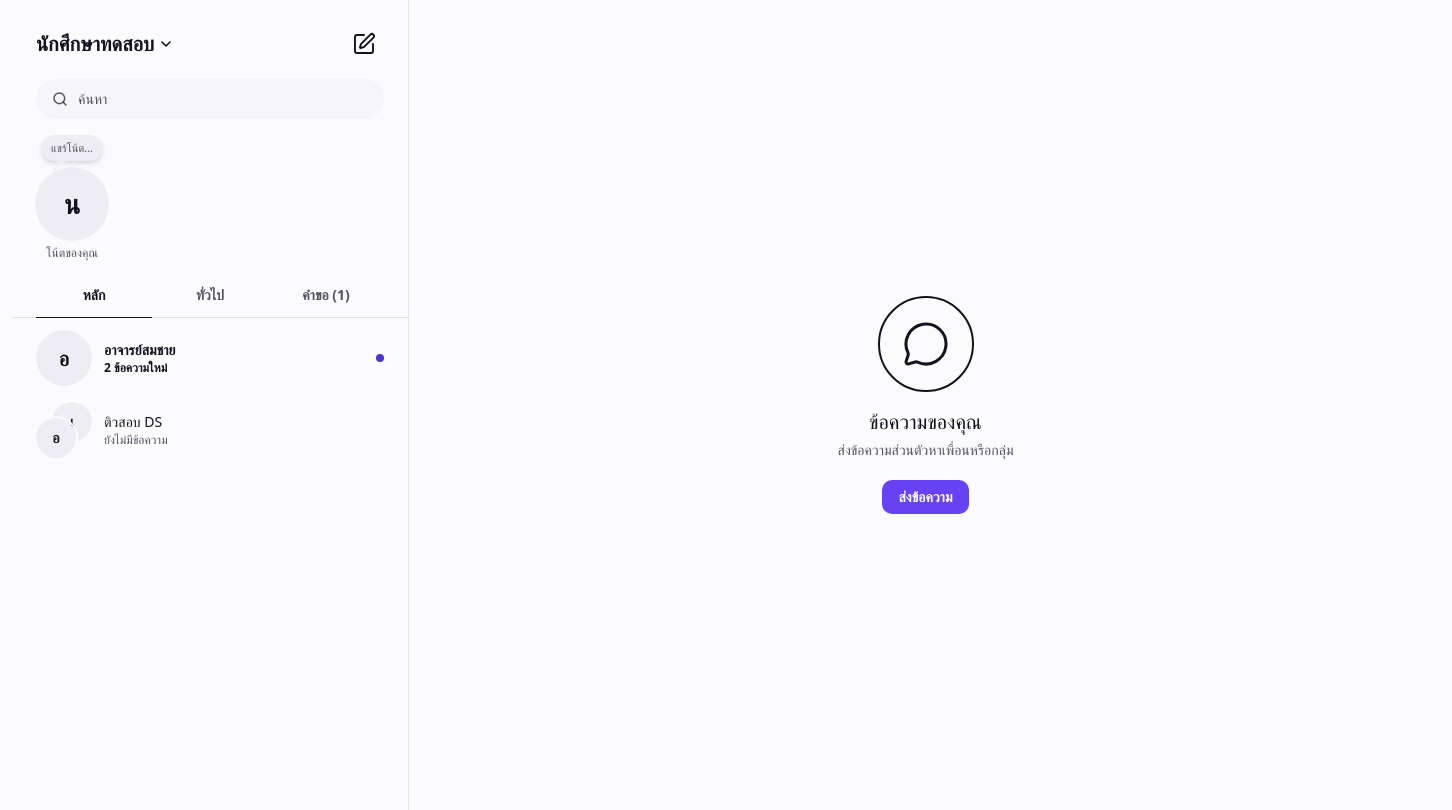
Test: หน้าข้อความ › แท็บ "ทั่วไป" = แฟ้ม GENERAL
Click the tab "ทั่วไป" at (210, 296), box [152,273,268,318]
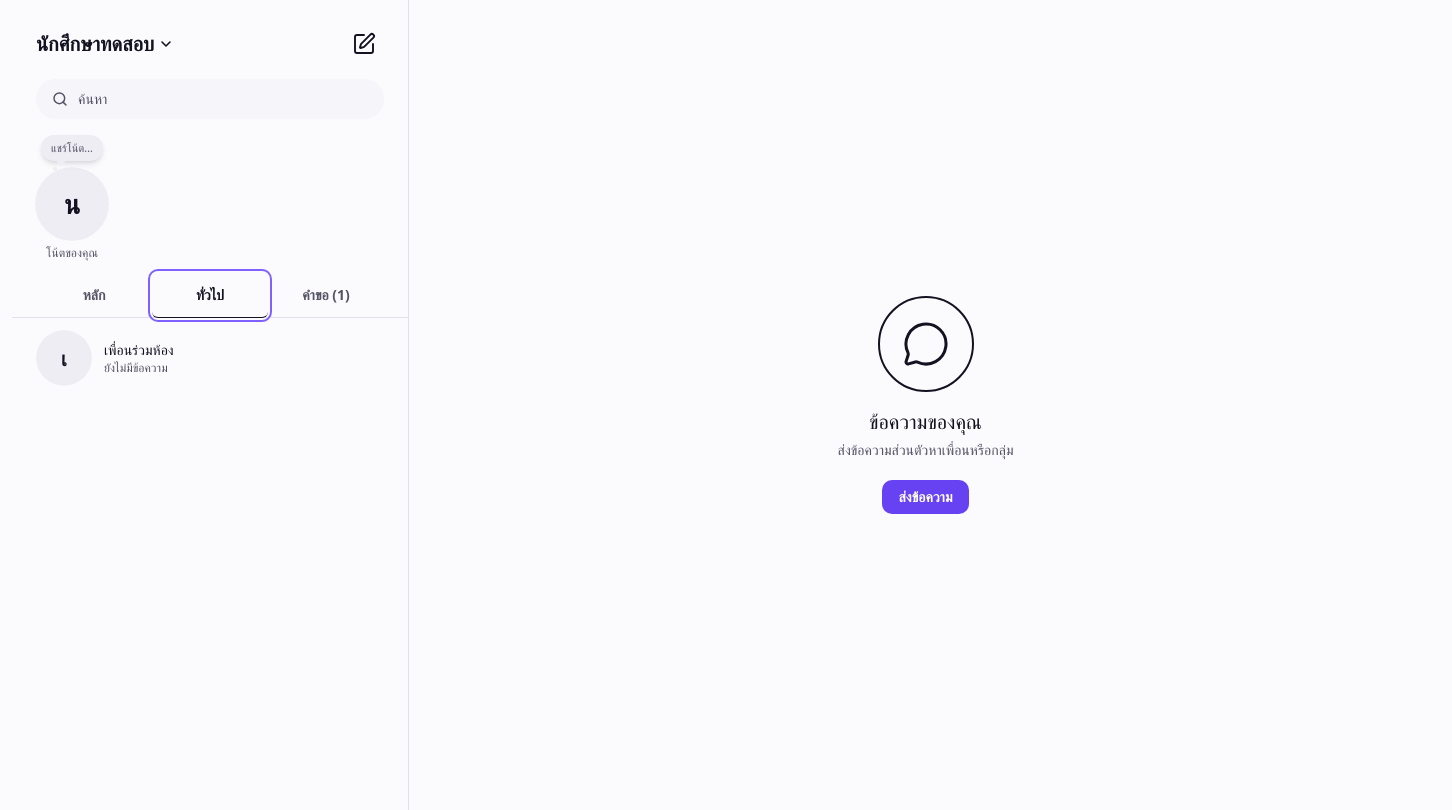
Result: the button "เ เพื่อนร่วมห้อง ยังไม่มีข้อความ" is shown at [12,322,408,394]
